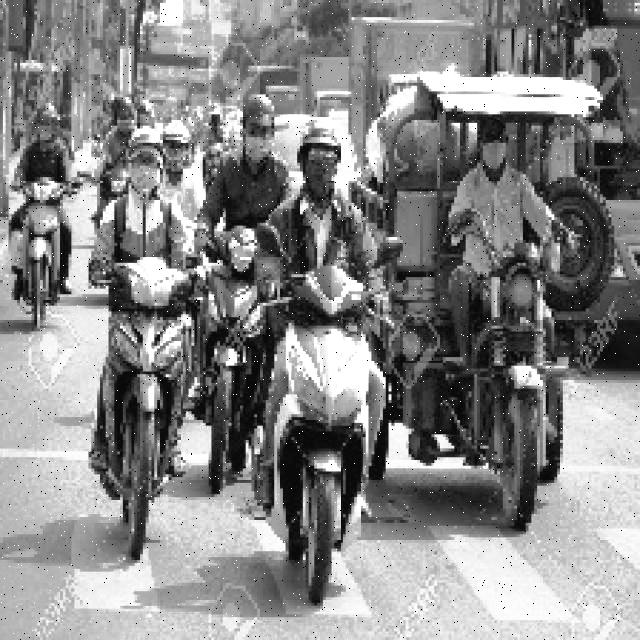Bike: (270, 270, 378, 606), (102, 256, 196, 548), (186, 222, 280, 484), (11, 164, 67, 334)
